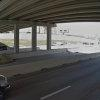Bridge: (1, 2, 94, 37)
